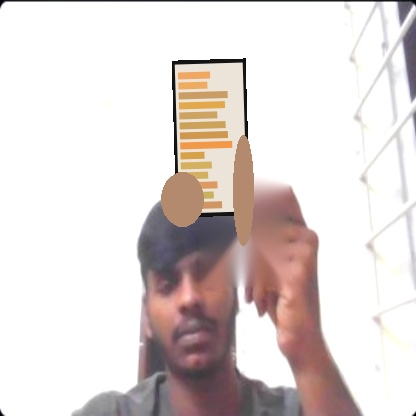cell_phone: (172, 58, 250, 217)
